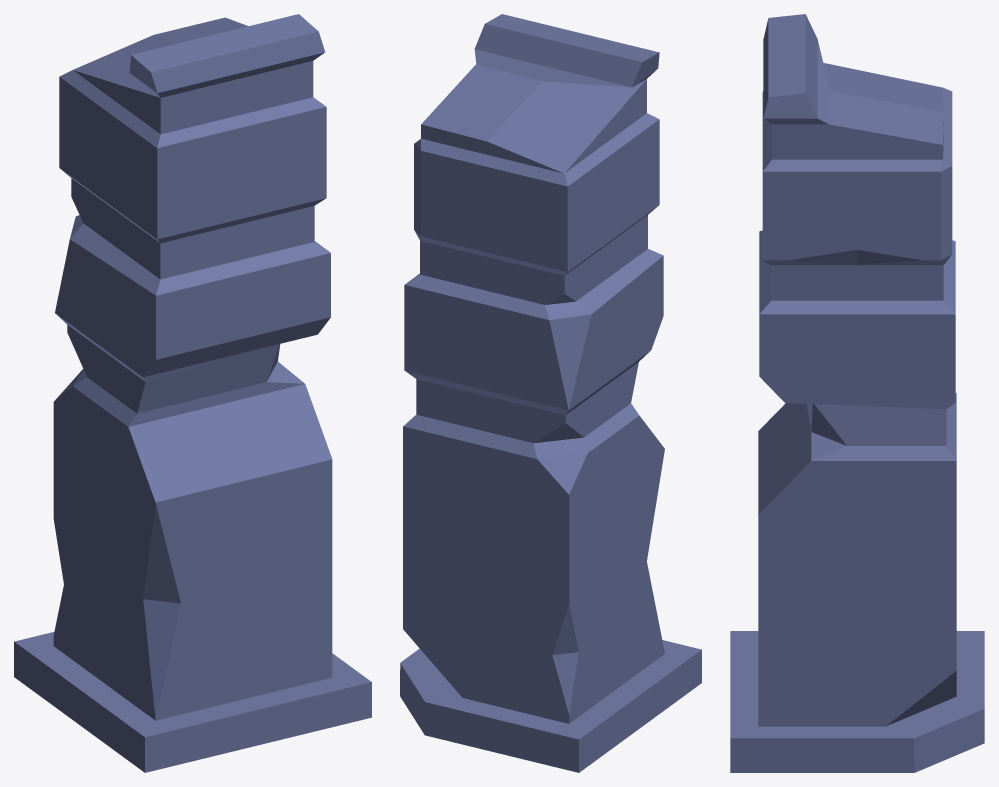
File: column_2_dstr.fbx
The picture shows the model from 3 angles, left to right: view 1: azimuth 30°, elevation 25°; view 2: azimuth 150°, elevation 25°; view 3: azimuth 270°, elevation 25°; orthographic projection. The views are drawn at different scales.
Parts seen in each view (by area): view 1: column_2_dstr; view 2: column_2_dstr; view 3: column_2_dstr.
Boxes of the visible parts, <box> form: column_2_dstr: <box>14,14,371,772</box>; column_2_dstr: <box>400,14,701,772</box>; column_2_dstr: <box>730,14,984,772</box>.
Bounding box in the file's own units: 2.6 × 7.49 × 2.6.
